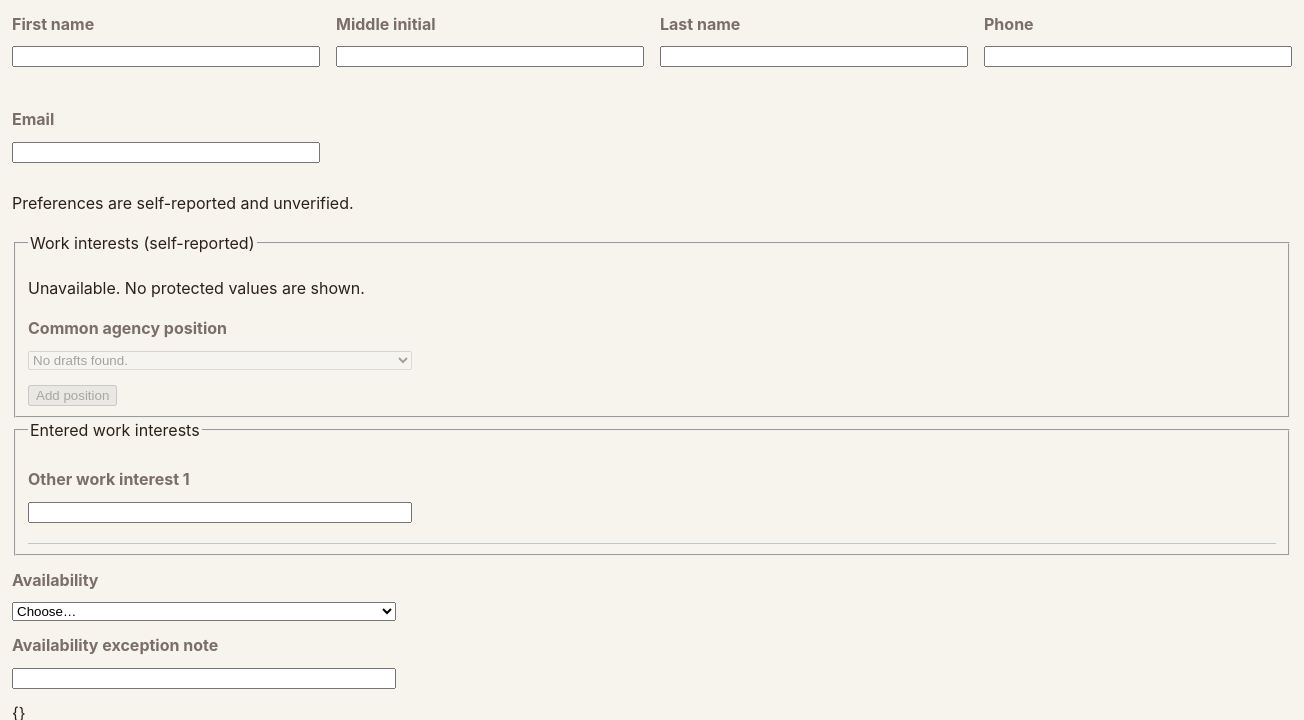
Test case: typed partial fields › keeps middle-initial edits in the middle field while last name is empty
This screenshot has width=1304, height=720.
Type "Fictional" into the field labelled "First name" at (166, 57), box [12,46,320,67]
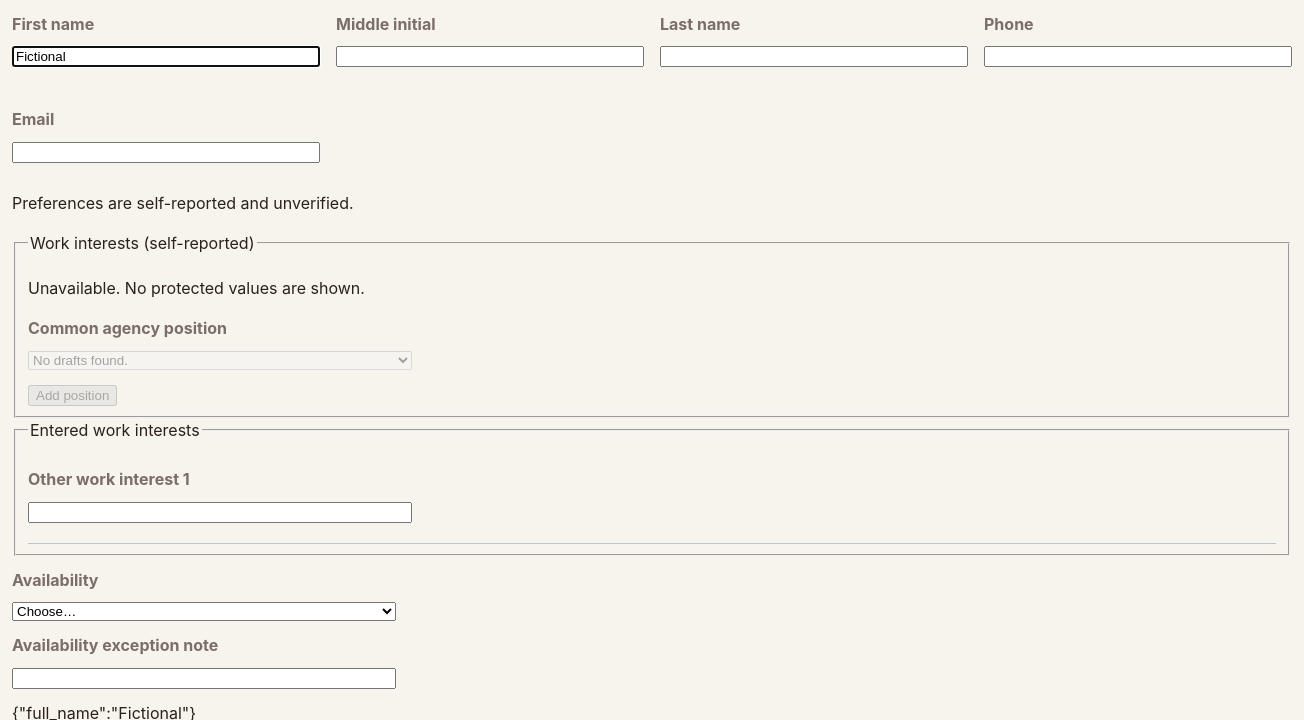
Type "quincy" into the field labelled "Middle initial" at (490, 57), box [336,46,644,67]
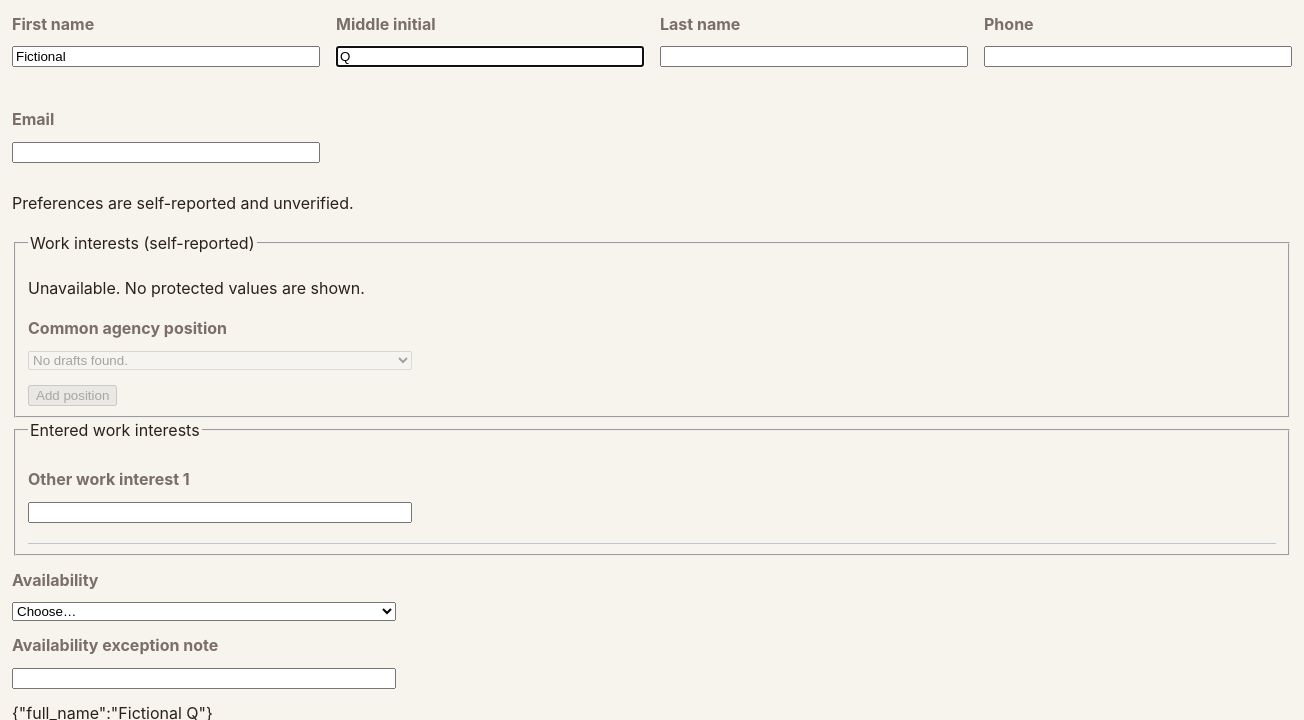
Expected: the field labelled "Last name" is empty, [660,46,968,67]
Expected: the field labelled "Middle initial" holds "Q"
Clear the field labelled "Middle initial" at (490, 57), box [336,46,644,67]
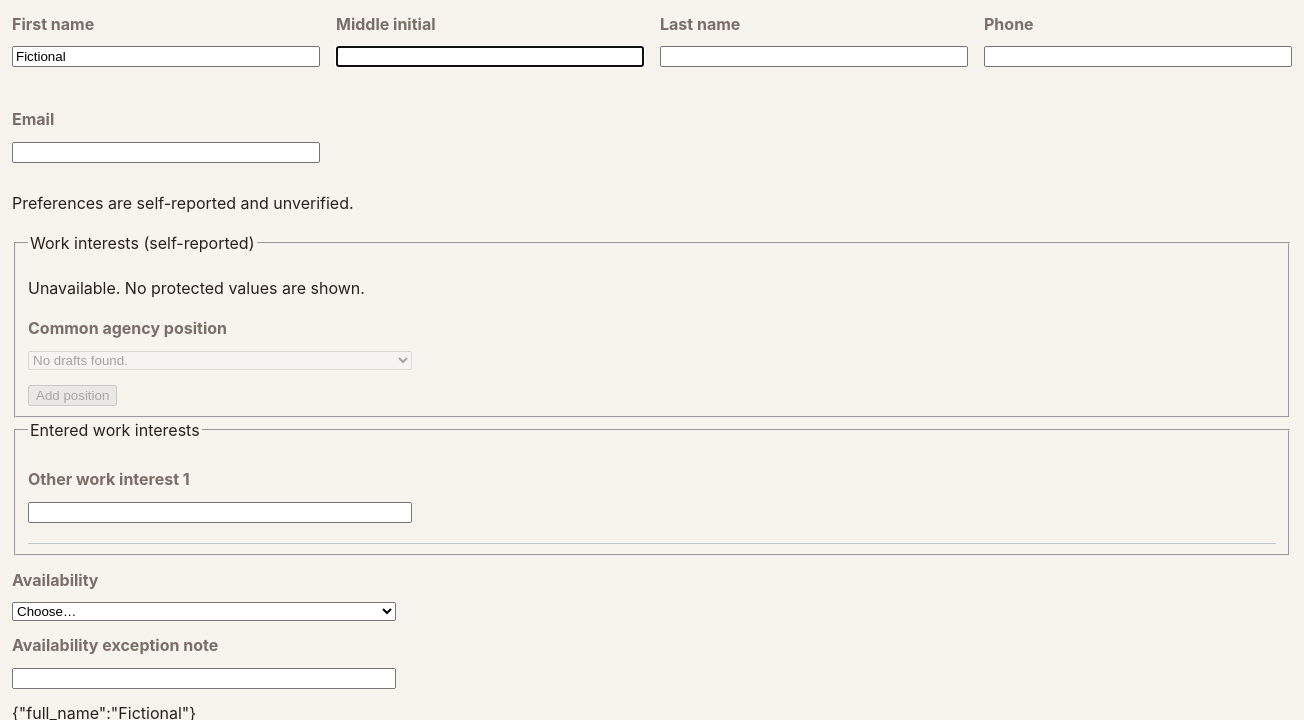
Type "Person" into the field labelled "Last name" at (814, 57), box [660,46,968,67]
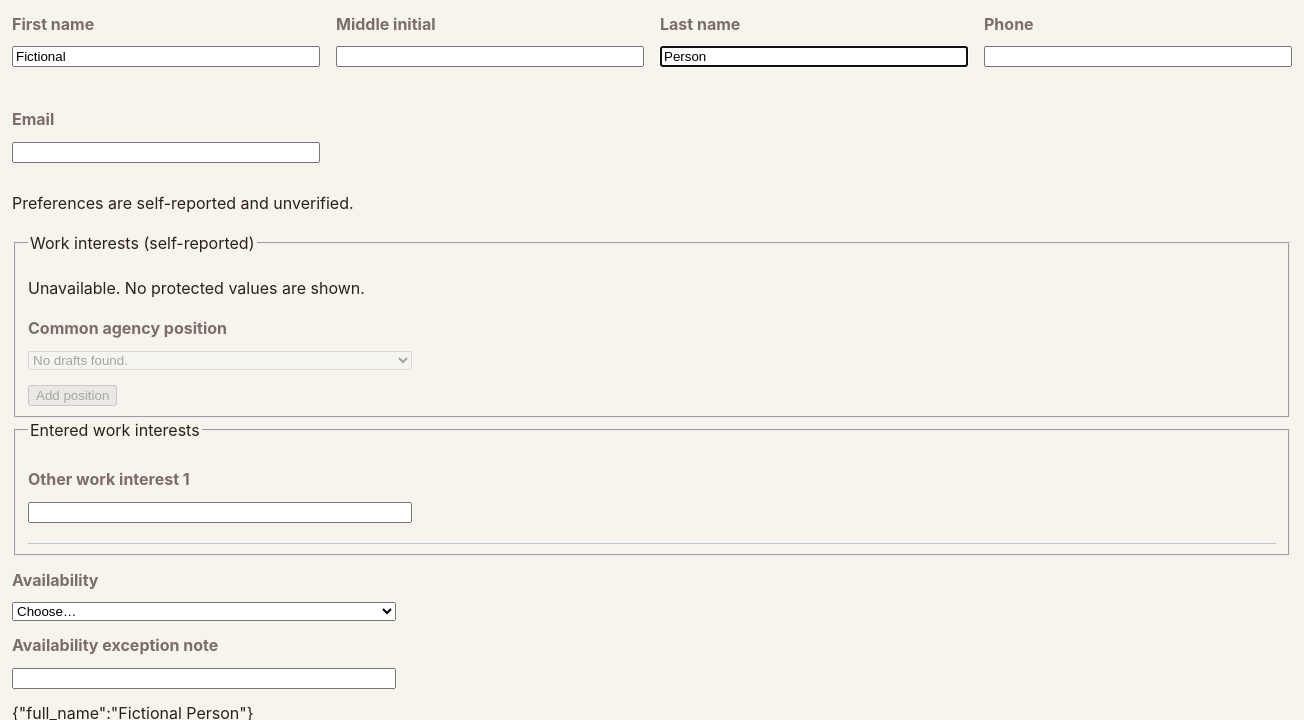
Type "R" into the field labelled "Middle initial" at (490, 57), box [336,46,644,67]
(page scrolled)
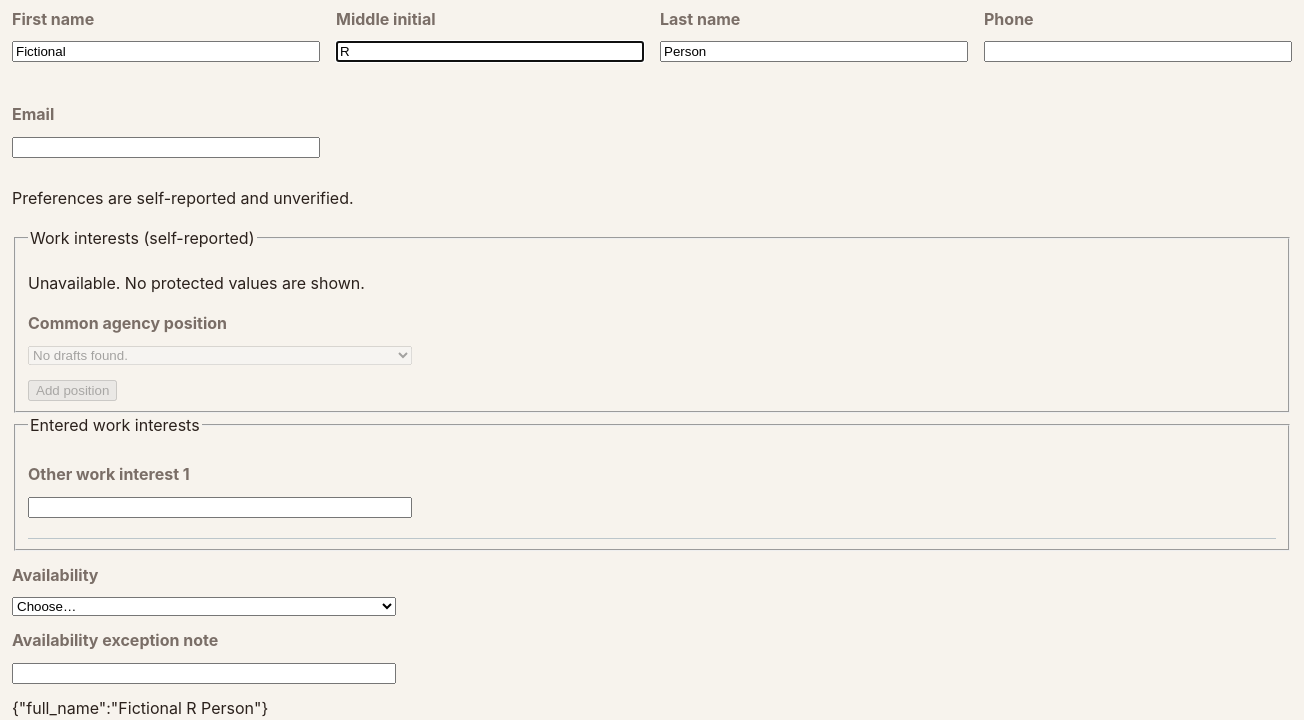
Expected: the text named "Captured fictional test values" shows "\"full_name\":\"Fictional R Person\"", [12,698,268,718]
